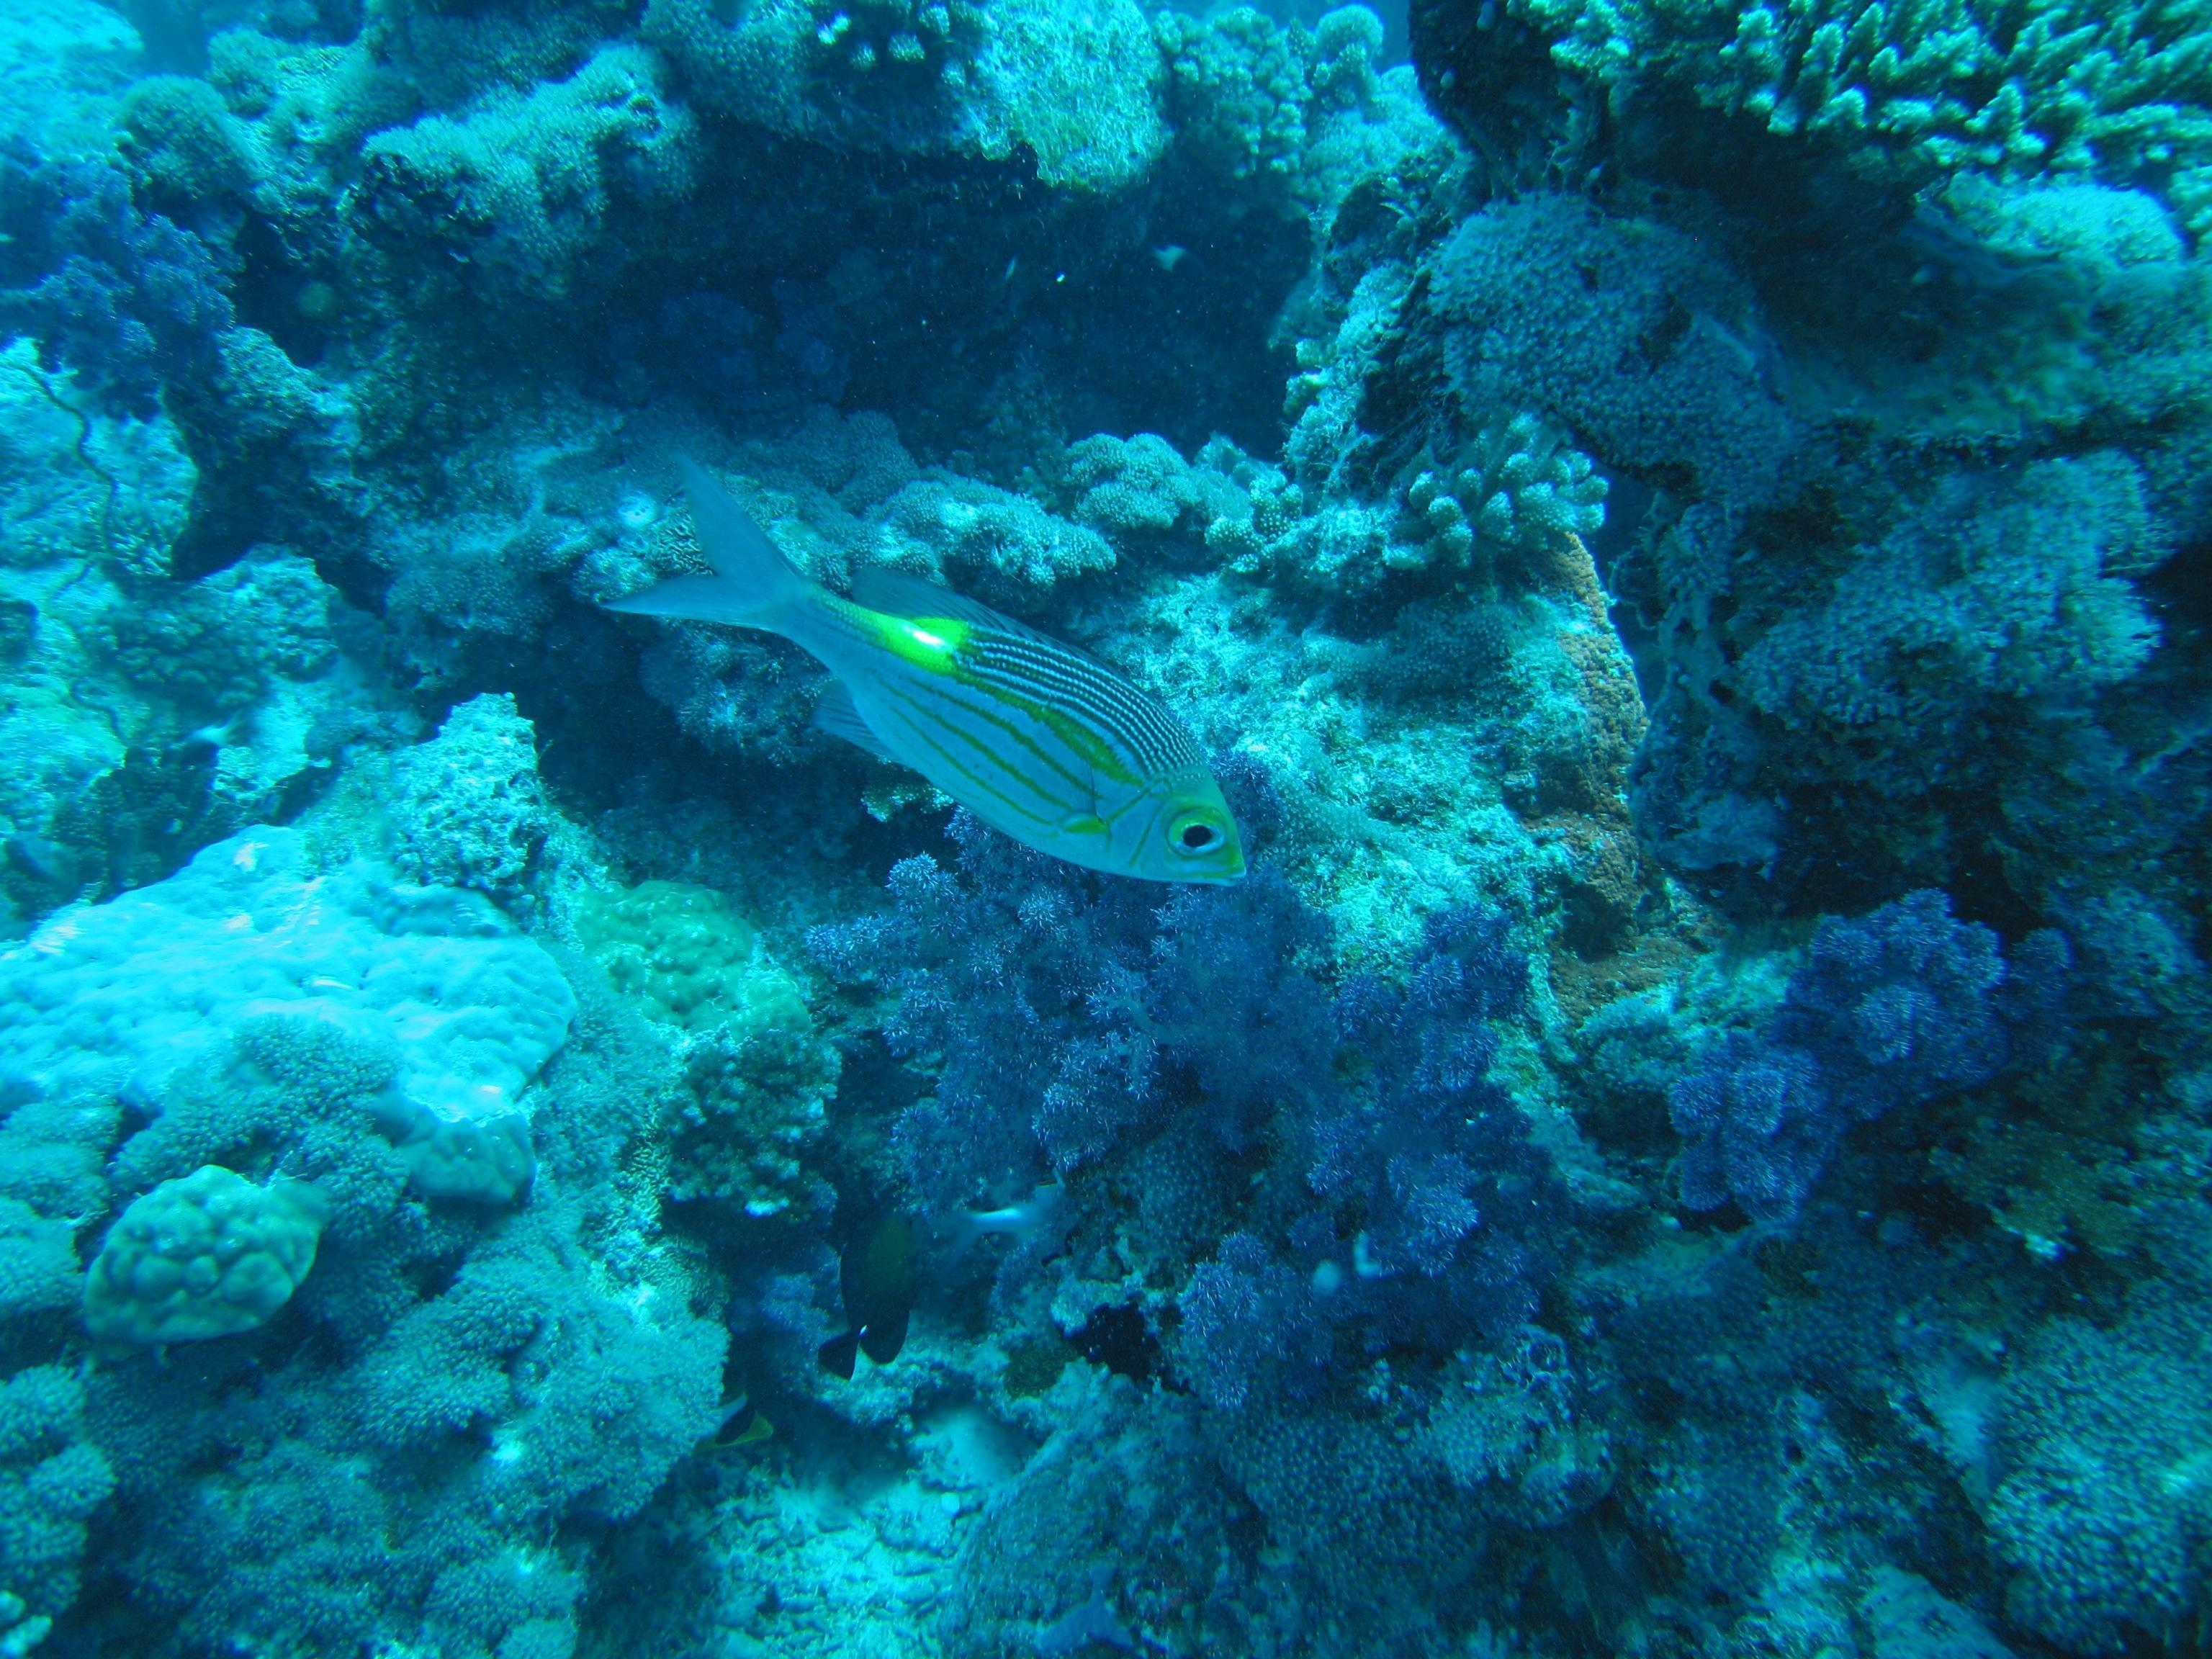Gnathodentex aureolineatus: (583, 429, 1275, 932)
